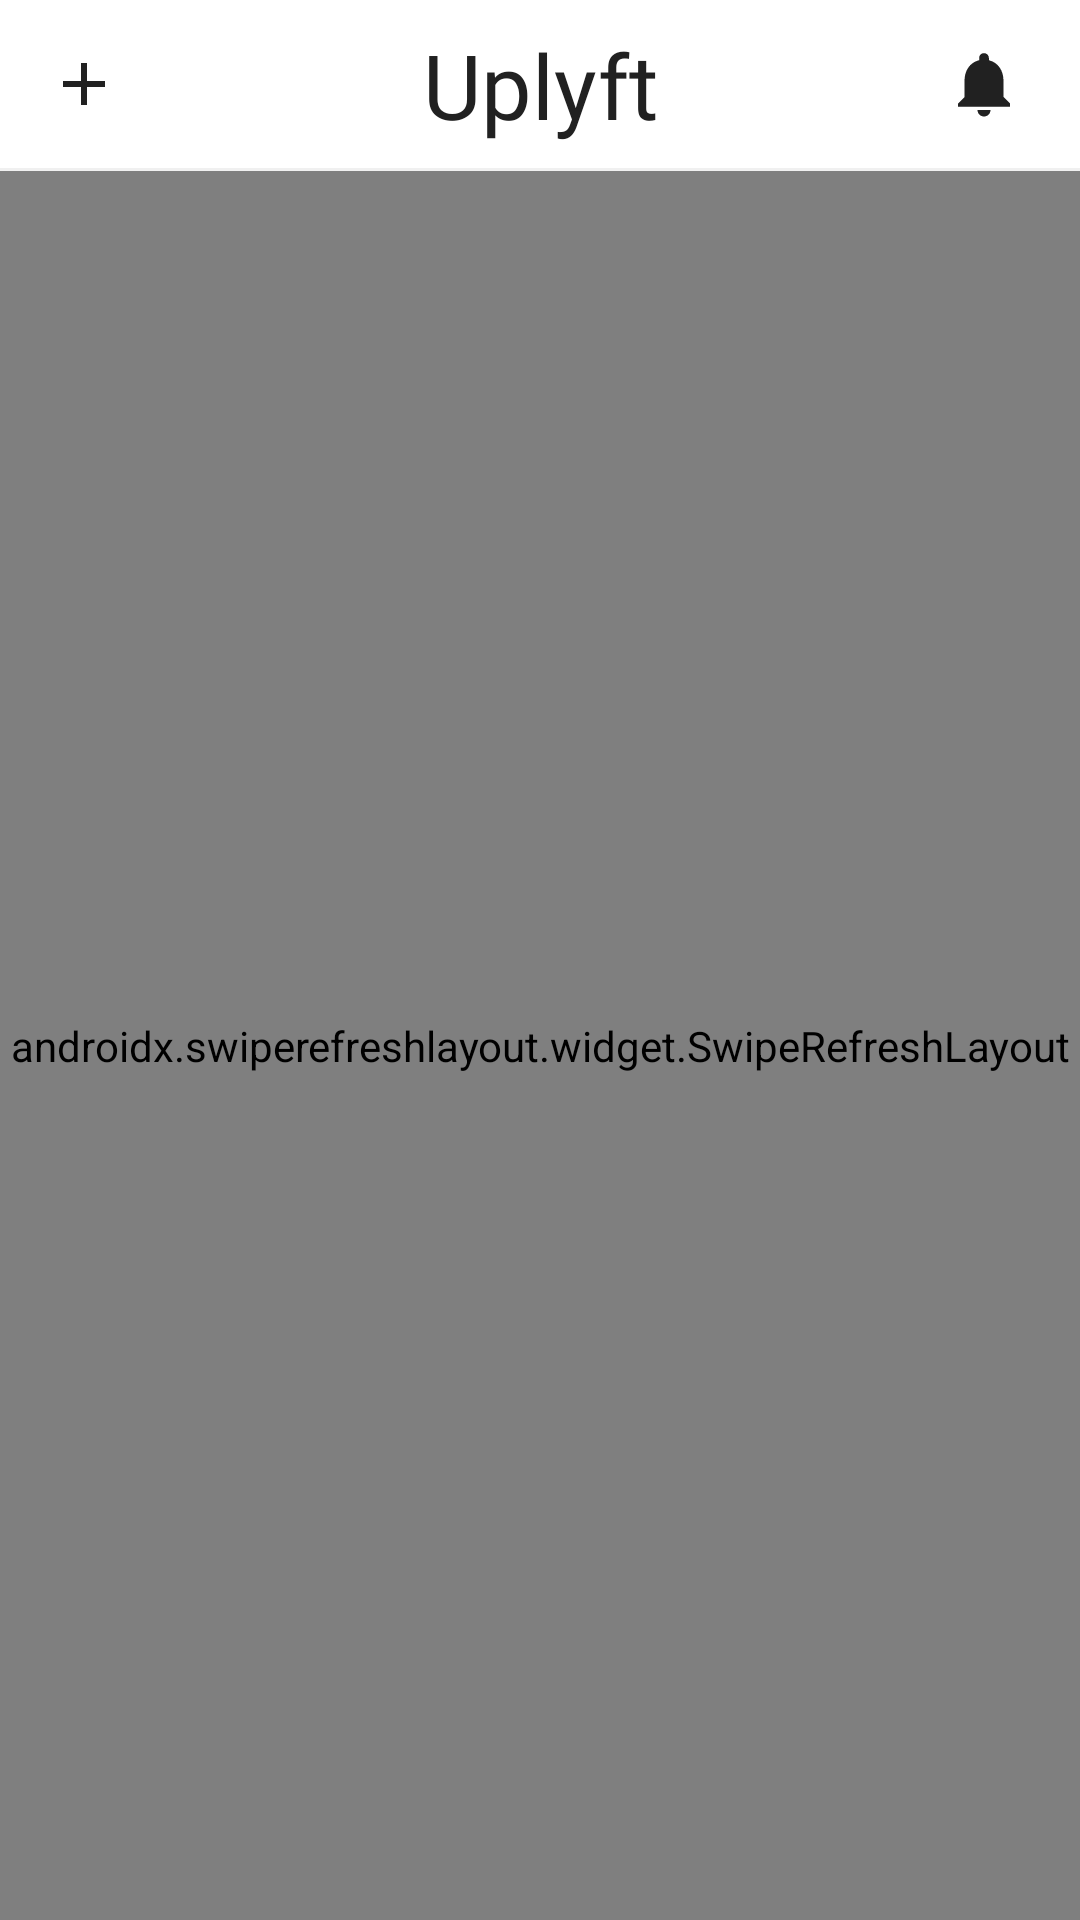

Locate icon controls on the screen. Image size 1080w x 1920h, boxes as (x1, y1, x2, y2).
Add post: (63, 63, 105, 105)
Notifications: (958, 53, 1010, 117)
